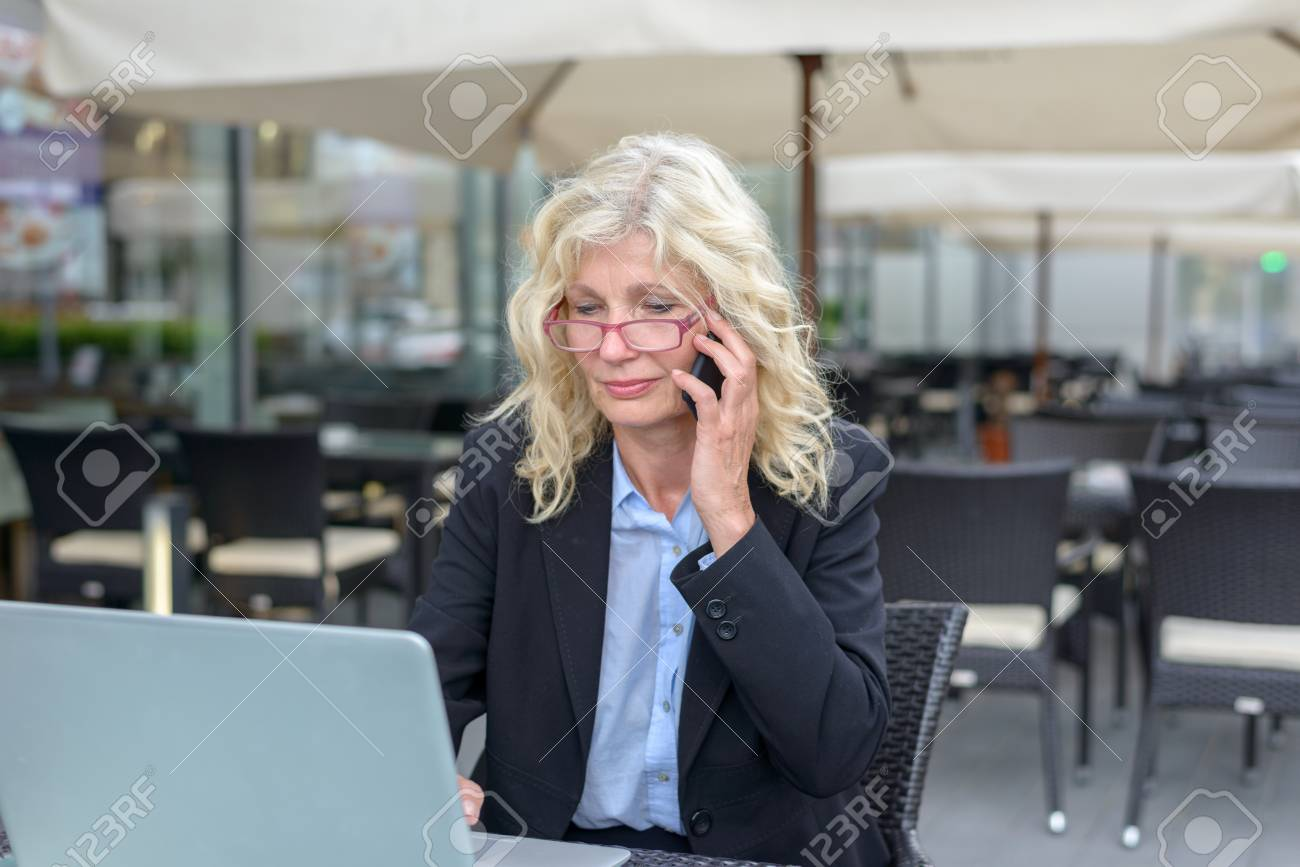phone: (665, 292, 762, 419)
talk: (550, 277, 781, 481)
